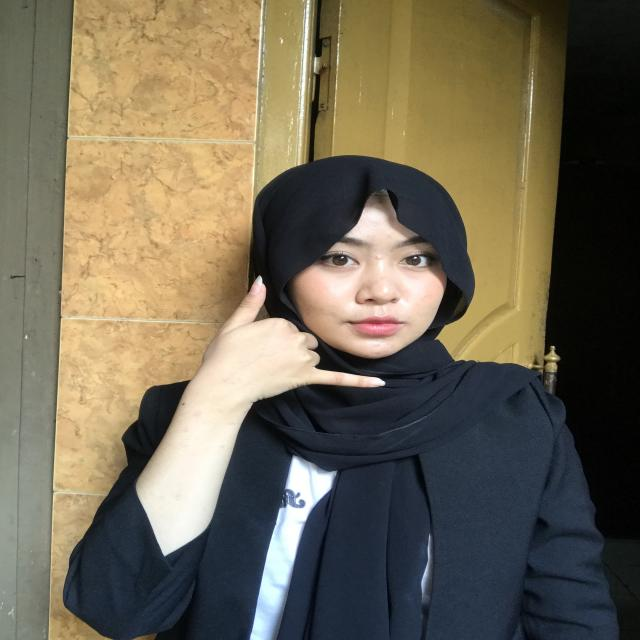telpon: (163, 269, 394, 442)
